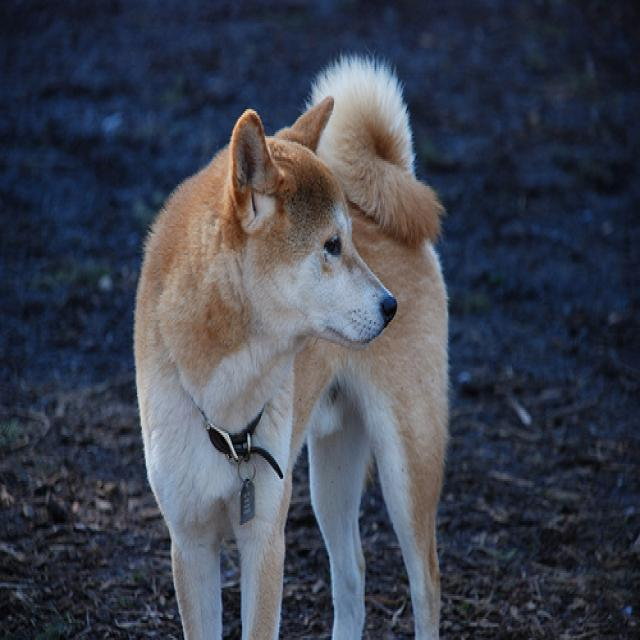dog-shiba_inu: (119, 54, 460, 636)
